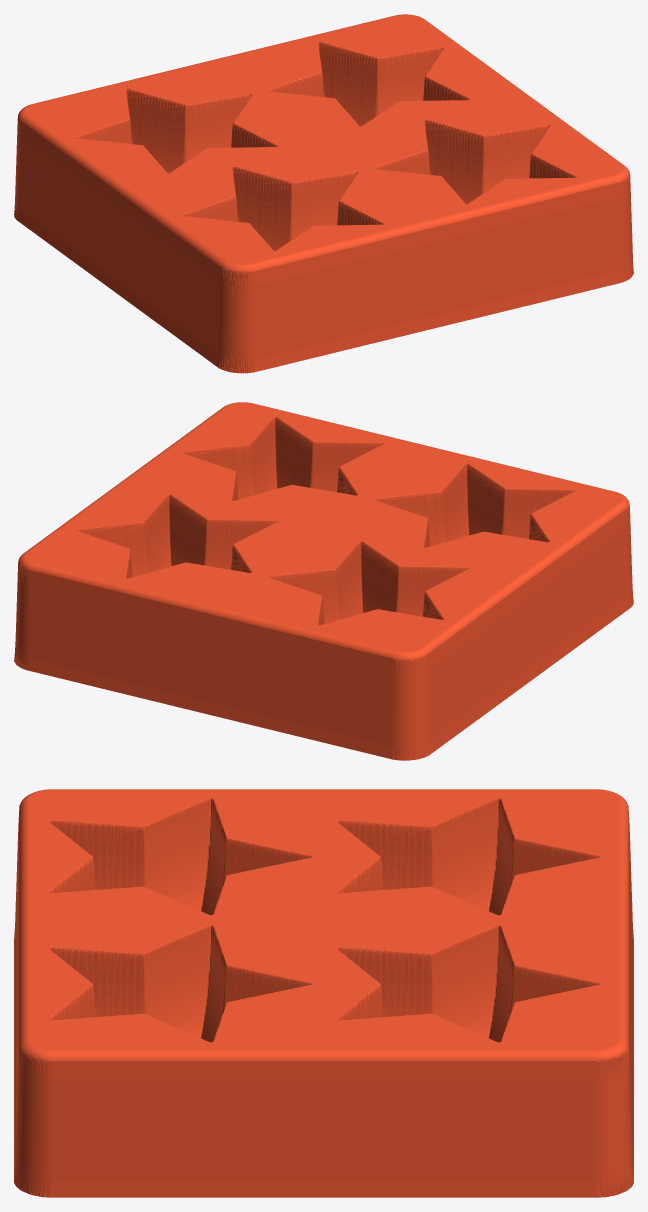
Rendered from mold.glb.
3 views of the same model, one above another, from view 1: azimuth 30°, elevation 25°; view 2: azimuth 150°, elevation 25°; view 3: azimuth 270°, elevation 25° (orthographic). The views are drawn at different scales.
Visible parts, largest first — view 1: geometry_0; view 2: geometry_0; view 3: geometry_0.
Part boxes in pixels (x1=…): geometry_0: x1=14, y1=14, x2=633, y2=373; geometry_0: x1=14, y1=402, x2=633, y2=760; geometry_0: x1=14, y1=789, x2=633, y2=1197.
Size of the model in its own units: 0.1493 by 0.036 by 0.1433.
